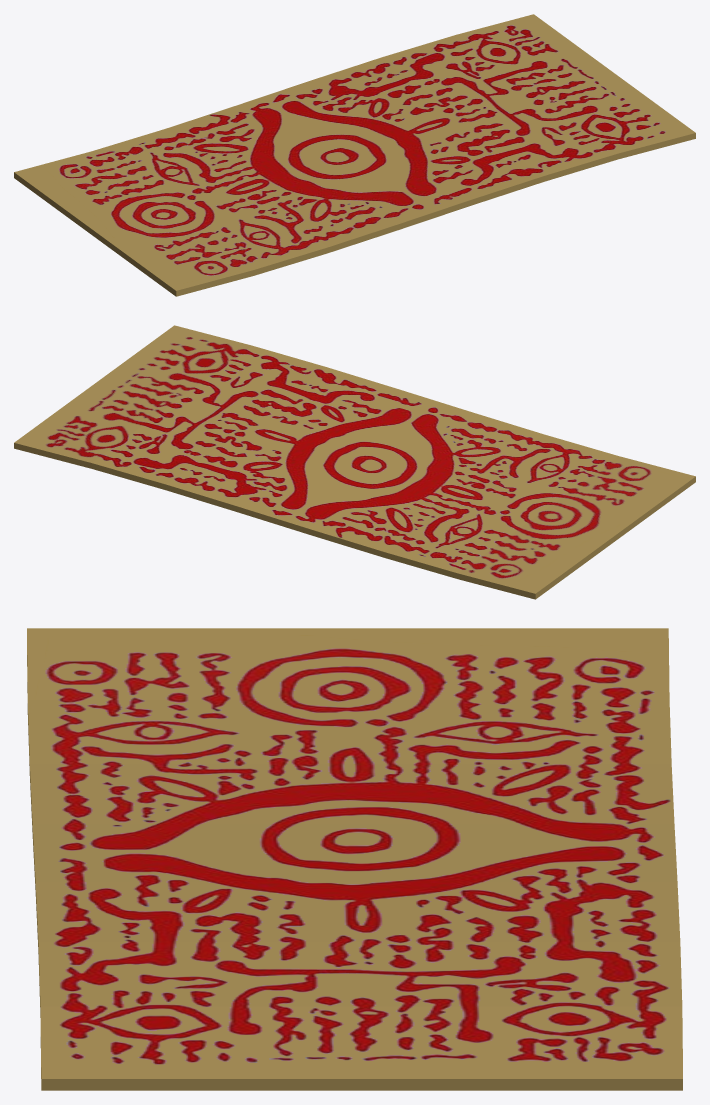
The model's file is talisman.fbx.
3 views of the same model, one above another, from view 1: azimuth 30°, elevation 25°; view 2: azimuth 150°, elevation 25°; view 3: azimuth 270°, elevation 25° (orthographic). The views are drawn at different scales.
Visible parts, largest first — view 1: Cube; view 2: Cube; view 3: Cube.
Part boxes in pixels (box(x1,y1,x2,y2)): Cube: box(14, 14, 695, 296); Cube: box(14, 325, 695, 599); Cube: box(27, 628, 682, 1090).
Bounding box in the file's own units: 9.32 × 0.5696 × 5.11.
